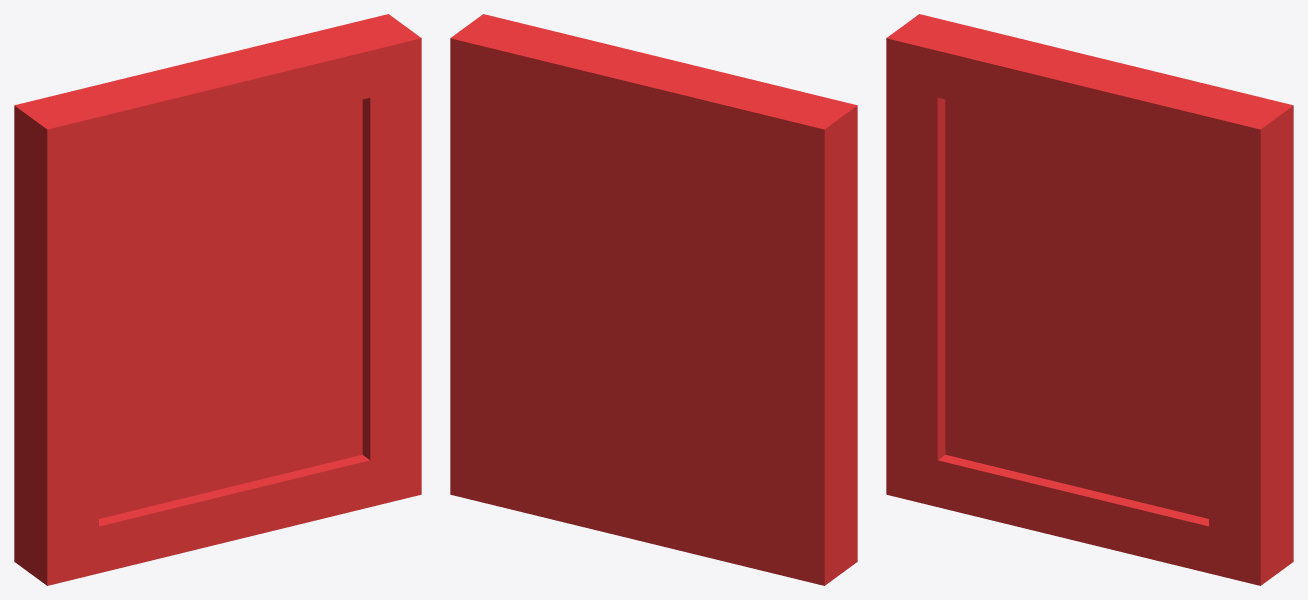
File: Itr_Obj_Frame1_05.FBX
The picture shows the model from 3 angles, left to right: view 1: azimuth 30°, elevation 25°; view 2: azimuth 150°, elevation 25°; view 3: azimuth 330°, elevation 25°; orthographic projection.
Visible parts, largest first — view 1: Itr_Obj_Frame1_05; view 2: Itr_Obj_Frame1_05; view 3: Itr_Obj_Frame1_05.
Boxes of the visible parts, x1,y1,x2,y2 form: Itr_Obj_Frame1_05: [14, 14, 421, 585]; Itr_Obj_Frame1_05: [450, 14, 857, 585]; Itr_Obj_Frame1_05: [886, 14, 1293, 585].
Size of the model in its own units: 15.22 by 17.73 by 2.33.
